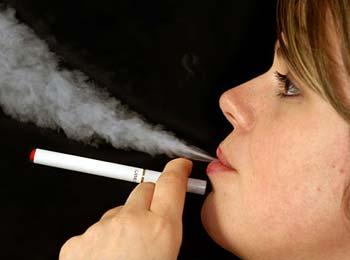cigarette: (23, 145, 209, 197)
smoke: (0, 0, 103, 142), (85, 109, 157, 154), (150, 123, 210, 163)
